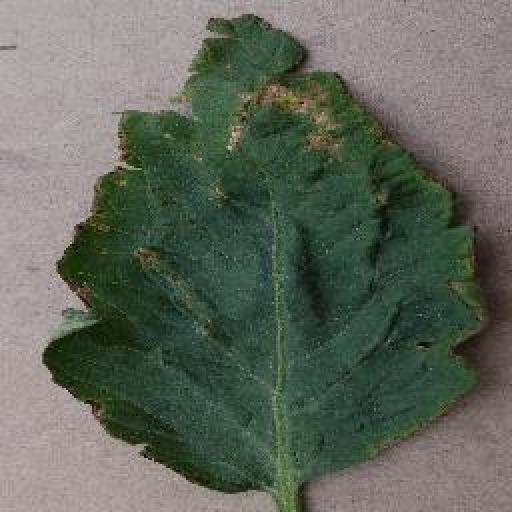Bacterial Spot: (43, 10, 496, 498)
